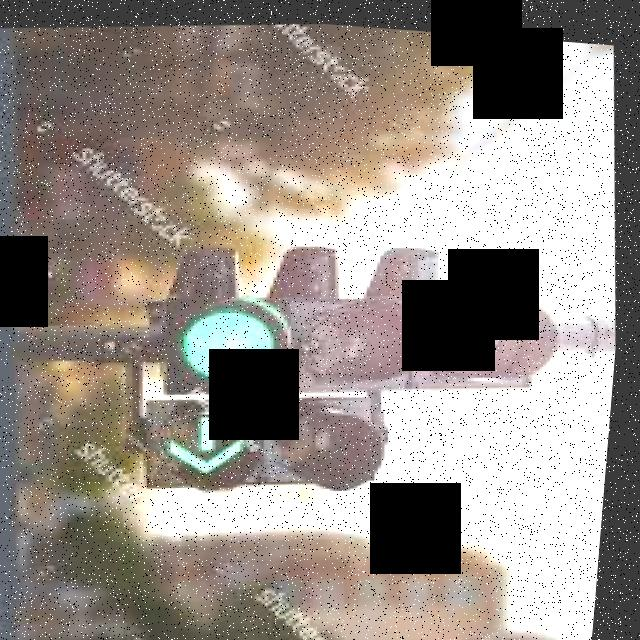green: (158, 257, 571, 418)
